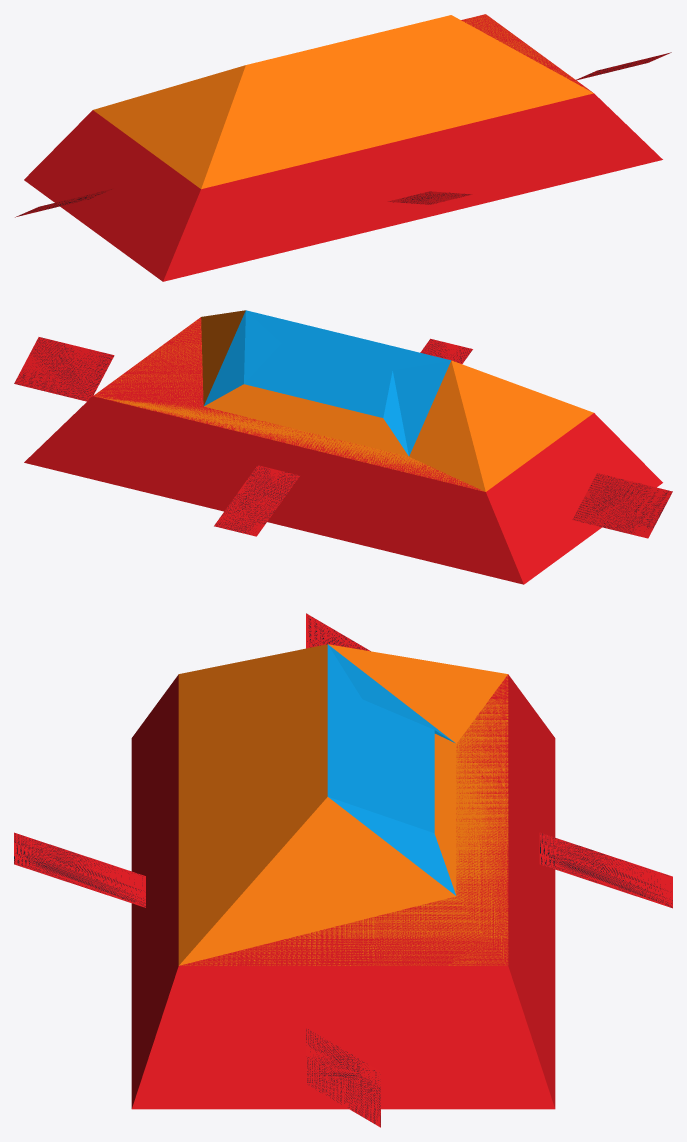
Rendered from ark.obj.
3 views of the same model, one above another, from view 1: azimuth 30°, elevation 25°; view 2: azimuth 150°, elevation 25°; view 3: azimuth 270°, elevation 25° (orthographic). The views are drawn at different scales.
Parts seen in each view (by area): view 1: cosmic_ark; view 2: cosmic_ark; view 3: cosmic_ark.
Boxes of the visible parts, <box> form: cosmic_ark: <box>15,14,671,281</box>; cosmic_ark: <box>14,310,672,584</box>; cosmic_ark: <box>14,613,672,1127</box>.
Size of the model in its own units: 7.1 by 1.43 by 4.2.
